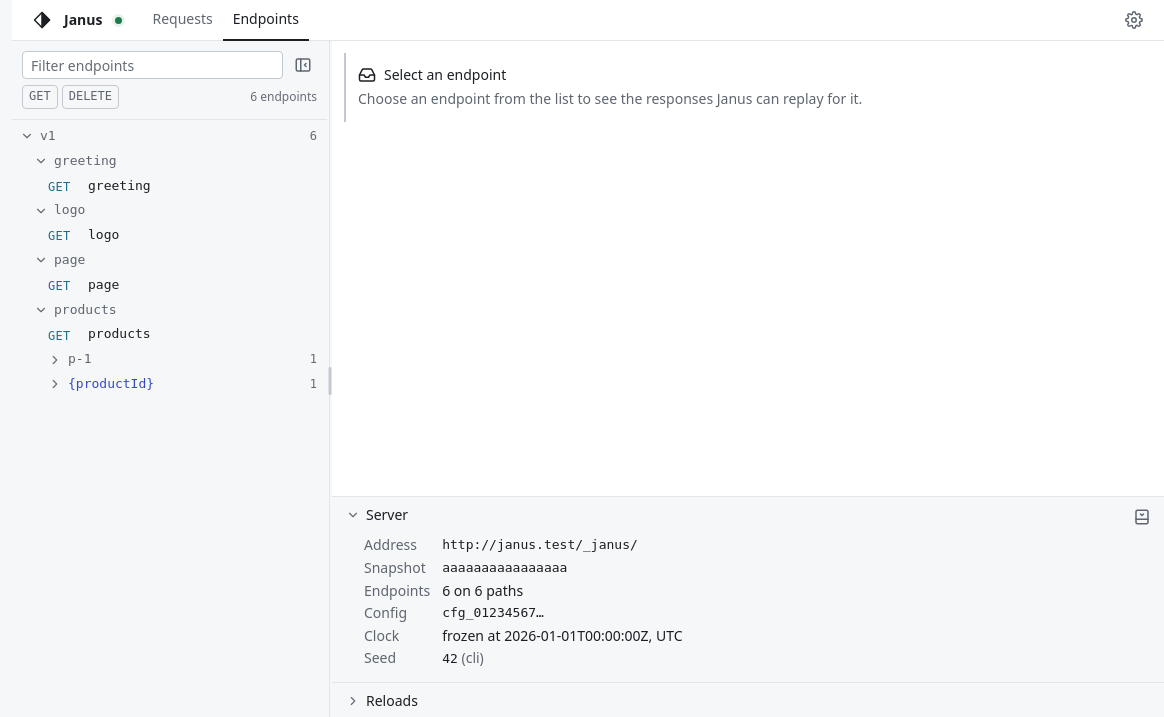
Scenario: fixture variations in the UI › opens a representation from the matrix by keyboard
Click the button with aria-label "/v1/products/{productId}, path parameter productId".
click(111, 383)  # box [12,372,327,397]
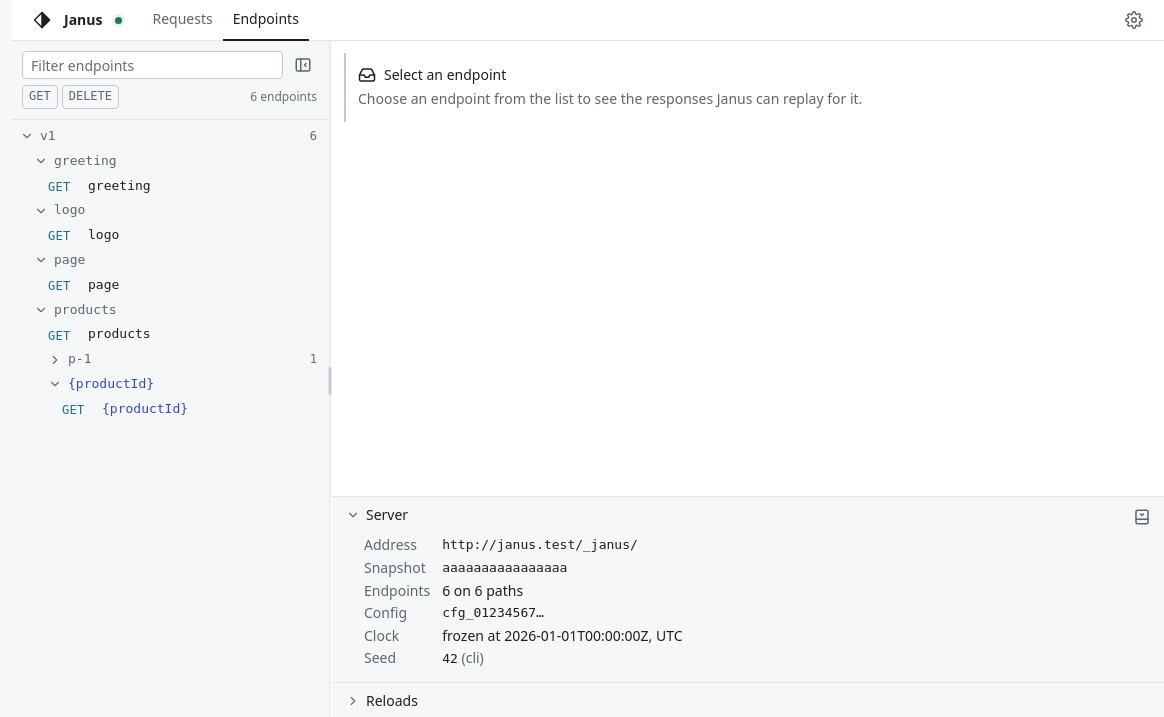
Click the link named "GET /v1/products/{productId}, path parameter productId, scenario default".
click(125, 409)  # box [62,401,188,417]
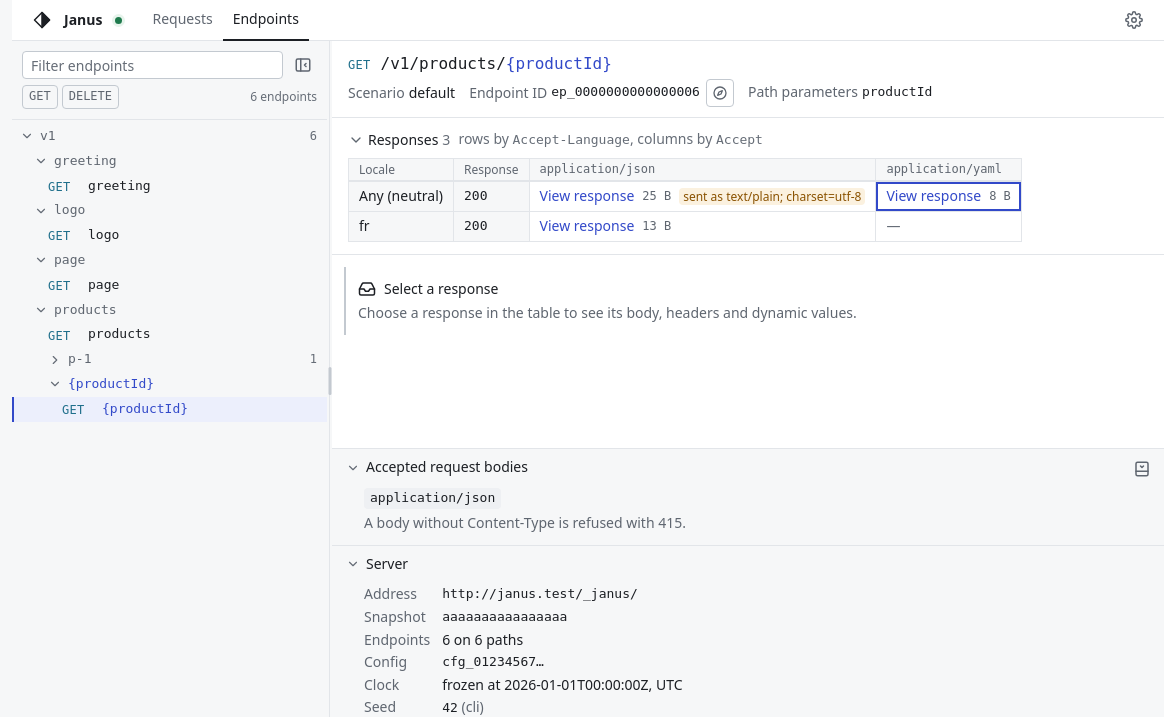
Expected: the heading "GET /v1/products/{productId}" is shown, [348,54,612,73]
Press Enter
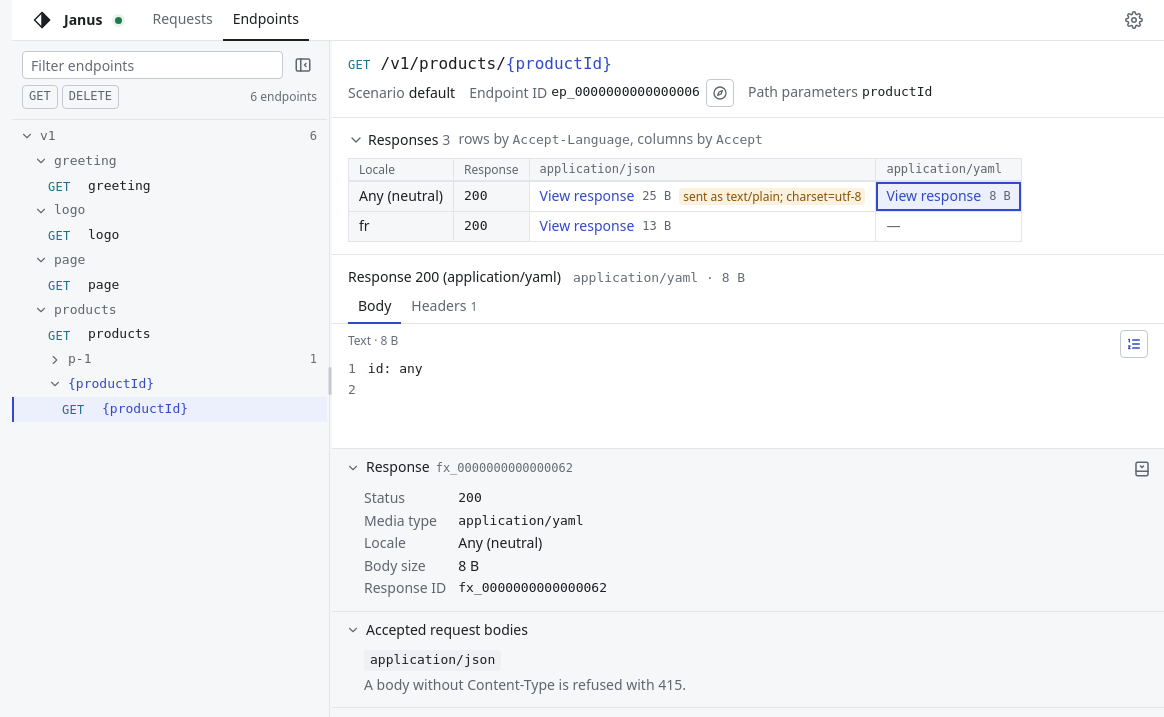
Expected: the heading "Response 200 (application/yaml)" is shown, [348,267,561,287]
